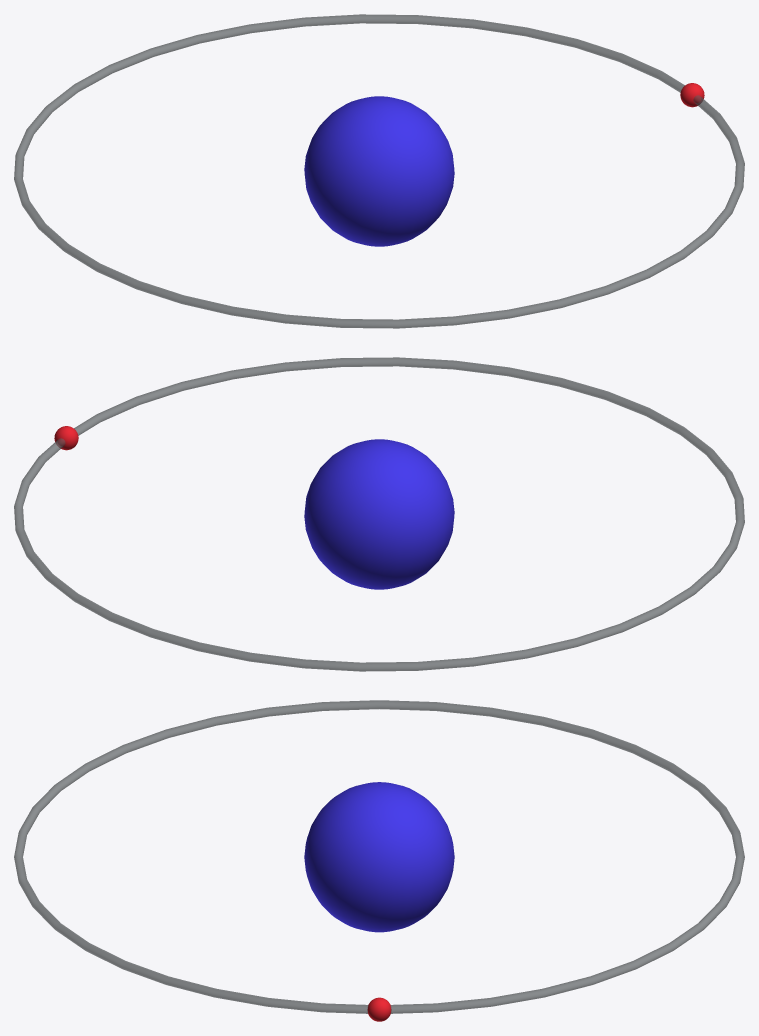
The model's file is hydrogen_no_bg.glb.
The picture shows the model from 3 angles, top to bottom: view 1: azimuth 30°, elevation 25°; view 2: azimuth 150°, elevation 25°; view 3: azimuth 270°, elevation 25°; orthographic projection.
Visible parts, largest first — view 1: Sphere, Torus; view 2: Sphere, Torus; view 3: Sphere, Torus.
Part boxes in pixels (bbox=[...]): Sphere: bbox=[304, 96, 454, 246]; Torus: bbox=[14, 14, 744, 328]; Sphere: bbox=[304, 439, 454, 589]; Torus: bbox=[14, 357, 744, 671]; Sphere: bbox=[304, 782, 454, 932]; Torus: bbox=[14, 700, 744, 1013].
Size of the model in its own units: 9.82 by 2 by 9.72.
